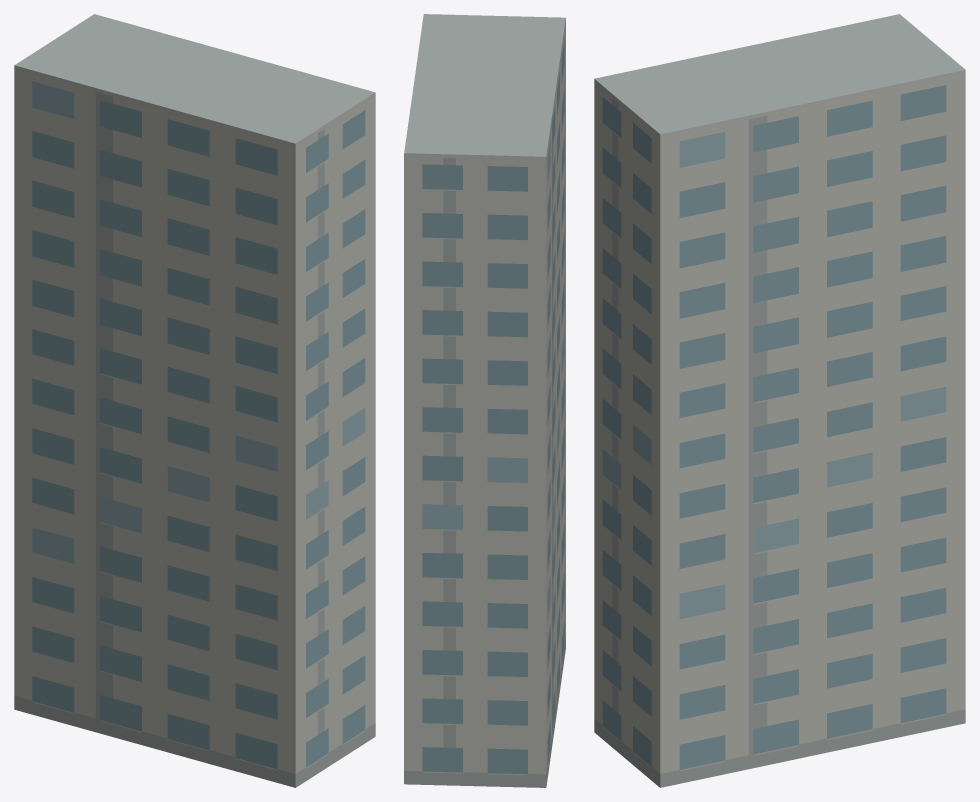
Rendered from residential-bca5137b-ef3a-4fba-9f4a-accbb8e37eac.glb.
3 views of the same model, side by side, from view 1: azimuth 30°, elevation 25°; view 2: azimuth 150°, elevation 25°; view 3: azimuth 270°, elevation 25° (orthographic). The views are drawn at different scales.
Parts seen in each view (by area): view 1: residential-bca5137b-ef3a-4fba-9f4a-accbb8e37eac.tmp; view 2: residential-bca5137b-ef3a-4fba-9f4a-accbb8e37eac.tmp; view 3: residential-bca5137b-ef3a-4fba-9f4a-accbb8e37eac.tmp.
Part boxes in pixels (box(x1,y1,x2,y2)): residential-bca5137b-ef3a-4fba-9f4a-accbb8e37eac.tmp: box(14, 14, 375, 787); residential-bca5137b-ef3a-4fba-9f4a-accbb8e37eac.tmp: box(404, 14, 565, 787); residential-bca5137b-ef3a-4fba-9f4a-accbb8e37eac.tmp: box(594, 14, 965, 787).
Bounding box in the file's own units: 16.2 × 41 × 21.13.
